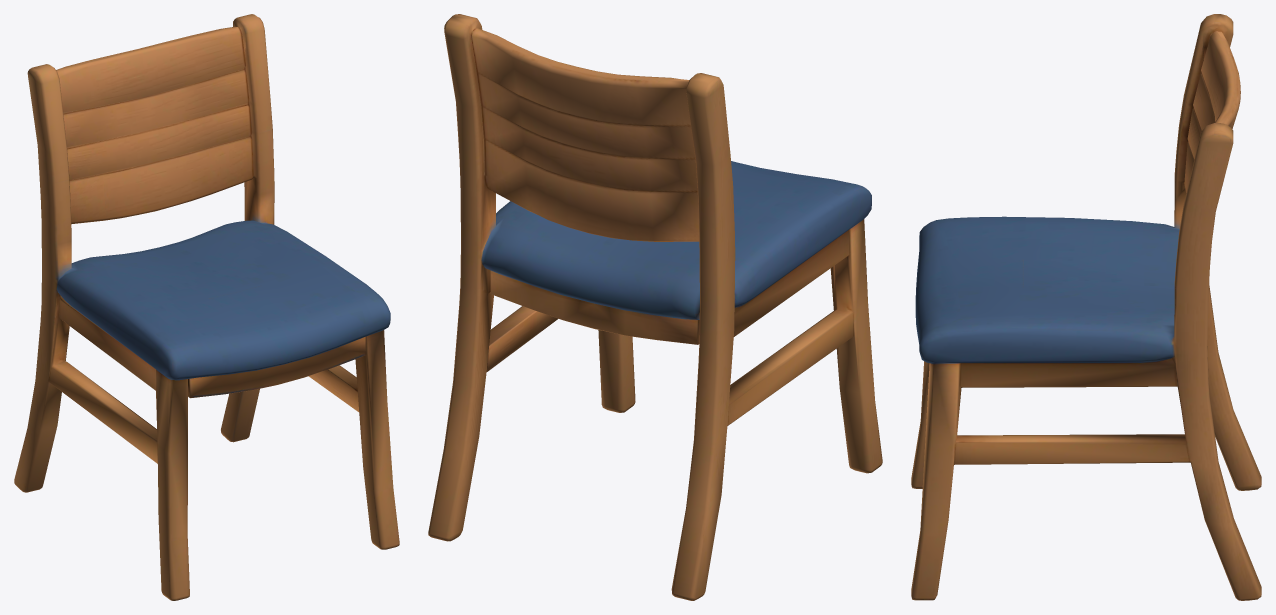
Rendered from break_room_chair_14a39c7b_v3.glb.
3 views of the same model, side by side, from view 1: azimuth 30°, elevation 25°; view 2: azimuth 150°, elevation 25°; view 3: azimuth 270°, elevation 25° (orthographic). The views are drawn at different scales.
Visible parts, largest first — view 1: material; view 2: material; view 3: material.
Boxes of the visible parts, x1,y1,x2,y2 form: material: [14, 14, 399, 600]; material: [428, 14, 882, 600]; material: [911, 14, 1261, 600].
Bounding box in the file's own units: 1.06 × 1.9 × 1.28.
Materials: 1 (1 with a texture image).
